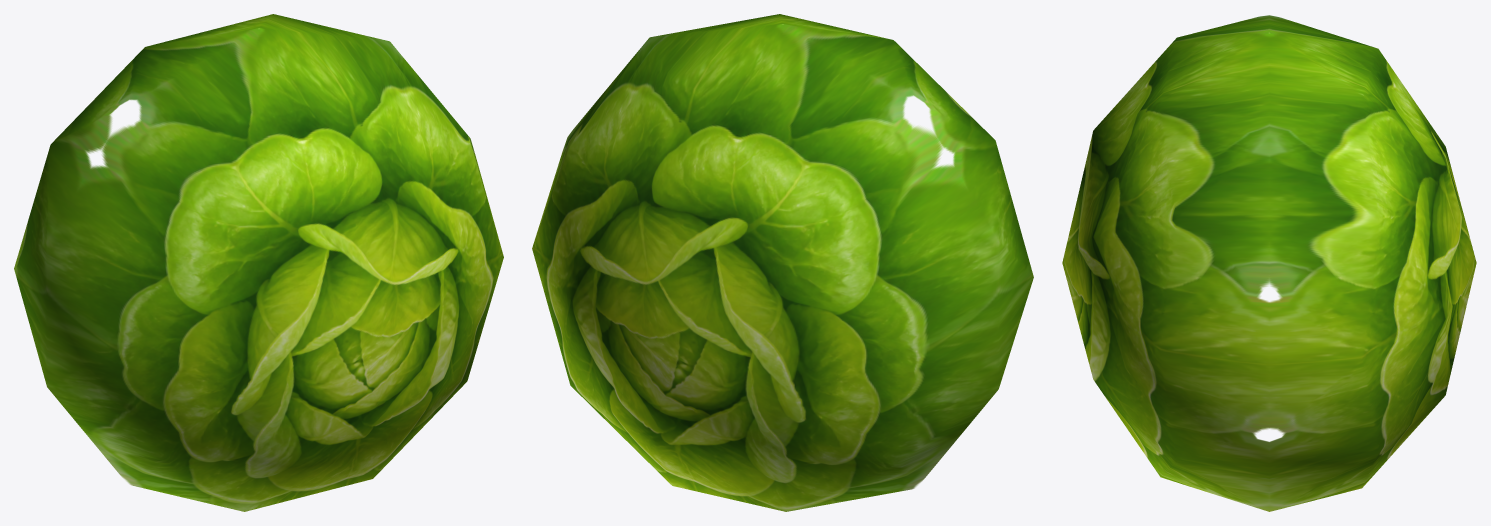
File: lettuce.glb
3 renders of one model, left to right at view 1: azimuth 30°, elevation 25°; view 2: azimuth 150°, elevation 25°; view 3: azimuth 270°, elevation 25°, orthographic. The views are drawn at different scales.
Parts seen in each view (by area): view 1: lettuce; view 2: lettuce; view 3: lettuce.
Boxes of the visible parts, x1,y1,x2,y2 form: lettuce: (14,14,503,511); lettuce: (532,14,1033,511); lettuce: (1062,15,1476,511).
Size of the model in its own units: 0.908 by 0.96 by 0.7829.
1 material, 1 textured.
